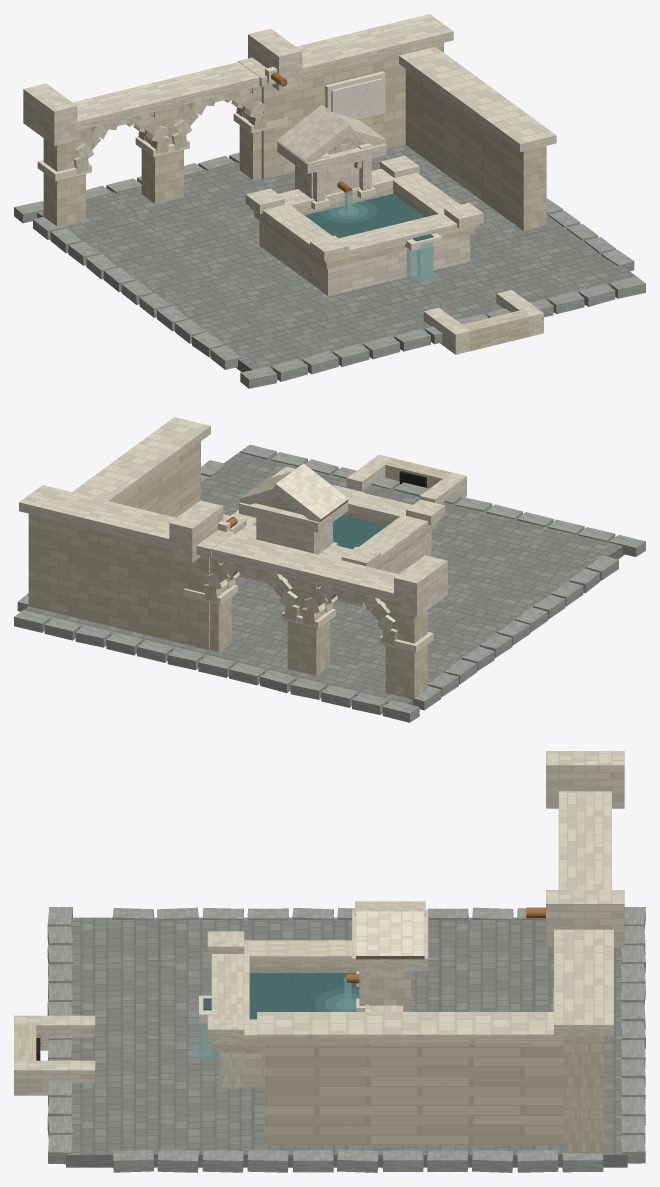
Rendered from civic-classical-fountain-built.glb.
The picture shows the model from 3 angles, top to bottom: view 1: azimuth 30°, elevation 25°; view 2: azimuth 150°, elevation 25°; view 3: azimuth 270°, elevation 25°; orthographic projection. The views are drawn at different scales.
Size of the model in its own units: 21.4 by 6.76 by 22.51.
30 materials, 20 textured.
